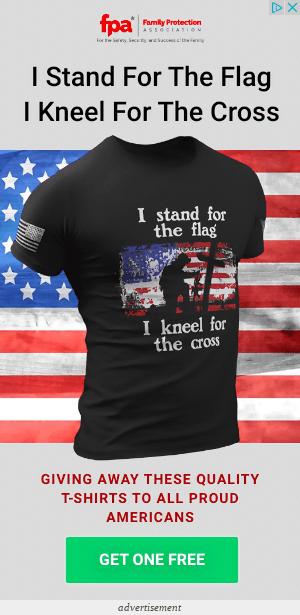fake_button: (55, 528, 252, 598)
